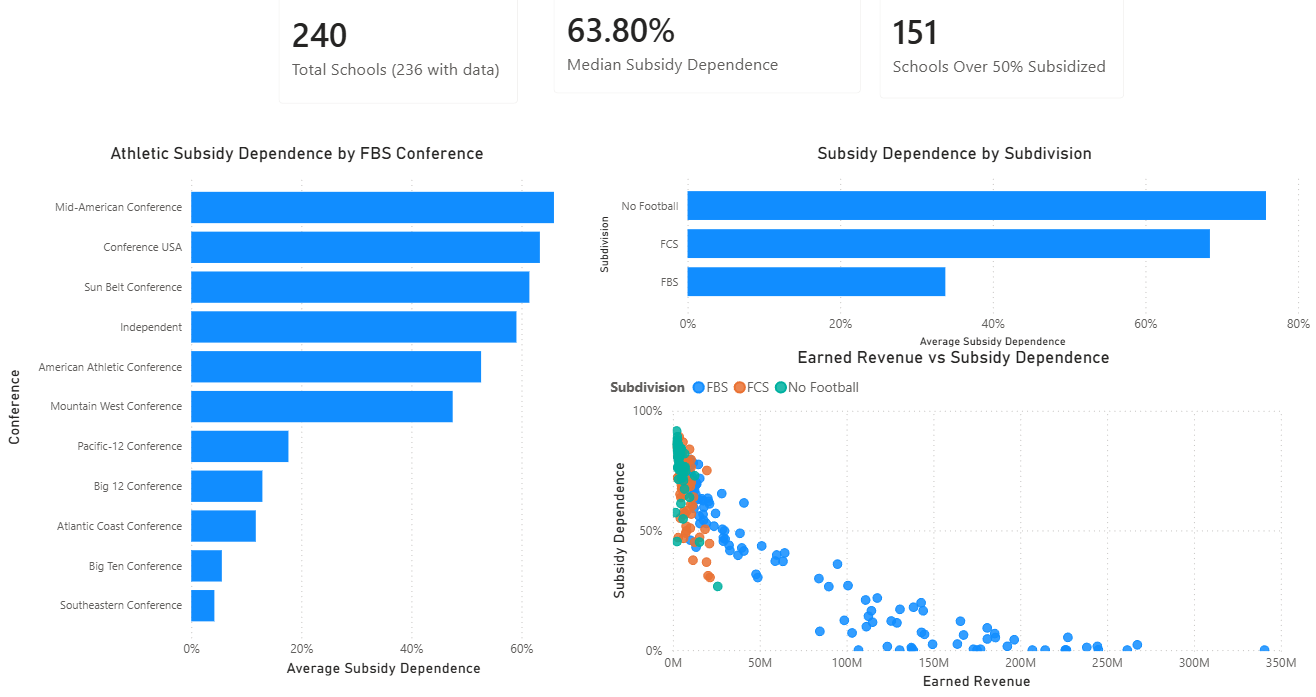

The page's visual inventory and layout, read from the dashboard file:
{"tool":"powerbi","page":{"name":"Page 1","canvas":[1280,720],"ordinal":0},"visuals":[{"type":"clusteredBarChart","title":"Athletic Subsidy Dependence by FBS Conference","fields":{"Category":["ncaa_analyzed.fbs_conference"],"Y":["Avg(ncaa_analyzed.subsidy_pct)"]},"box":[0,172.2,577.8,523.3],"z":0},{"type":"clusteredBarChart","title":"Subsidy Dependence by Subdivision","fields":{"Category":["ncaa_analyzed.ncaa_subdivision"],"Y":["Avg(ncaa_analyzed.subsidy_pct)"]},"box":[578.2,172.6,701.8,203.3],"z":1000},{"type":"scatterChart","title":"Earned Revenue vs Subsidy Dependence","fields":{"X":["Sum(ncaa_analyzed.Earned Revenue)"],"Y":["Sum(ncaa_analyzed.Average Subsidy Dependence)"],"Category":["ncaa_analyzed.school"],"Series":["ncaa_analyzed.Subdivision"]},"box":[588.4,370.8,678.3,338.1],"z":2000},{"type":"cardVisual","title":"Count of school","fields":{"Data":["CountNonNull(ncaa_analyzed.school)"]},"box":[253.9,0,267.5,151.7],"z":3000},{"type":"cardVisual","fields":{"Data":["Median(ncaa_analyzed.Average Subsidy Dependence)"]},"box":[521.3,0,333.6,141],"z":4000},{"type":"cardVisual","fields":{"Data":["ncaa_analyzed.Schools Over 50%"]},"box":[838.4,0,272.3,146.9],"z":5000}]}

Visuals, with their boxes on the page's 1280x720 design canvas (x1, y1, x2, y2). These are canvas units, not pixel positions in the 1316x697 screenshot, which may show the page scaled, cropped or inside an application window:
"Athletic Subsidy Dependence by FBS Conference" clusteredBarChart: x1=0, y1=172, x2=578, y2=696
"Subsidy Dependence by Subdivision" clusteredBarChart: x1=578, y1=173, x2=1280, y2=376
"Earned Revenue vs Subsidy Dependence" scatterChart: x1=588, y1=371, x2=1267, y2=709
"Count of school" cardVisual: x1=254, y1=0, x2=521, y2=152
cardVisual - Median(ncaa_analyzed.Average Subsidy Dependence): x1=521, y1=0, x2=855, y2=141
cardVisual - ncaa_analyzed.Schools Over 50%: x1=838, y1=0, x2=1111, y2=147
